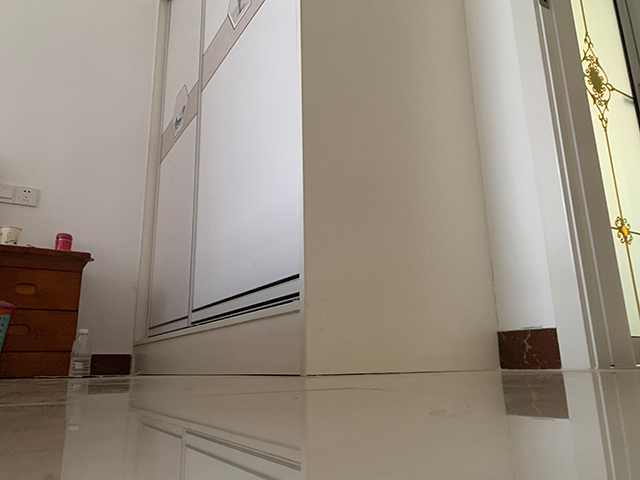cabinet: (131, 1, 501, 376), (1, 243, 89, 378)
